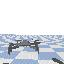drone: (7, 39, 41, 55)
